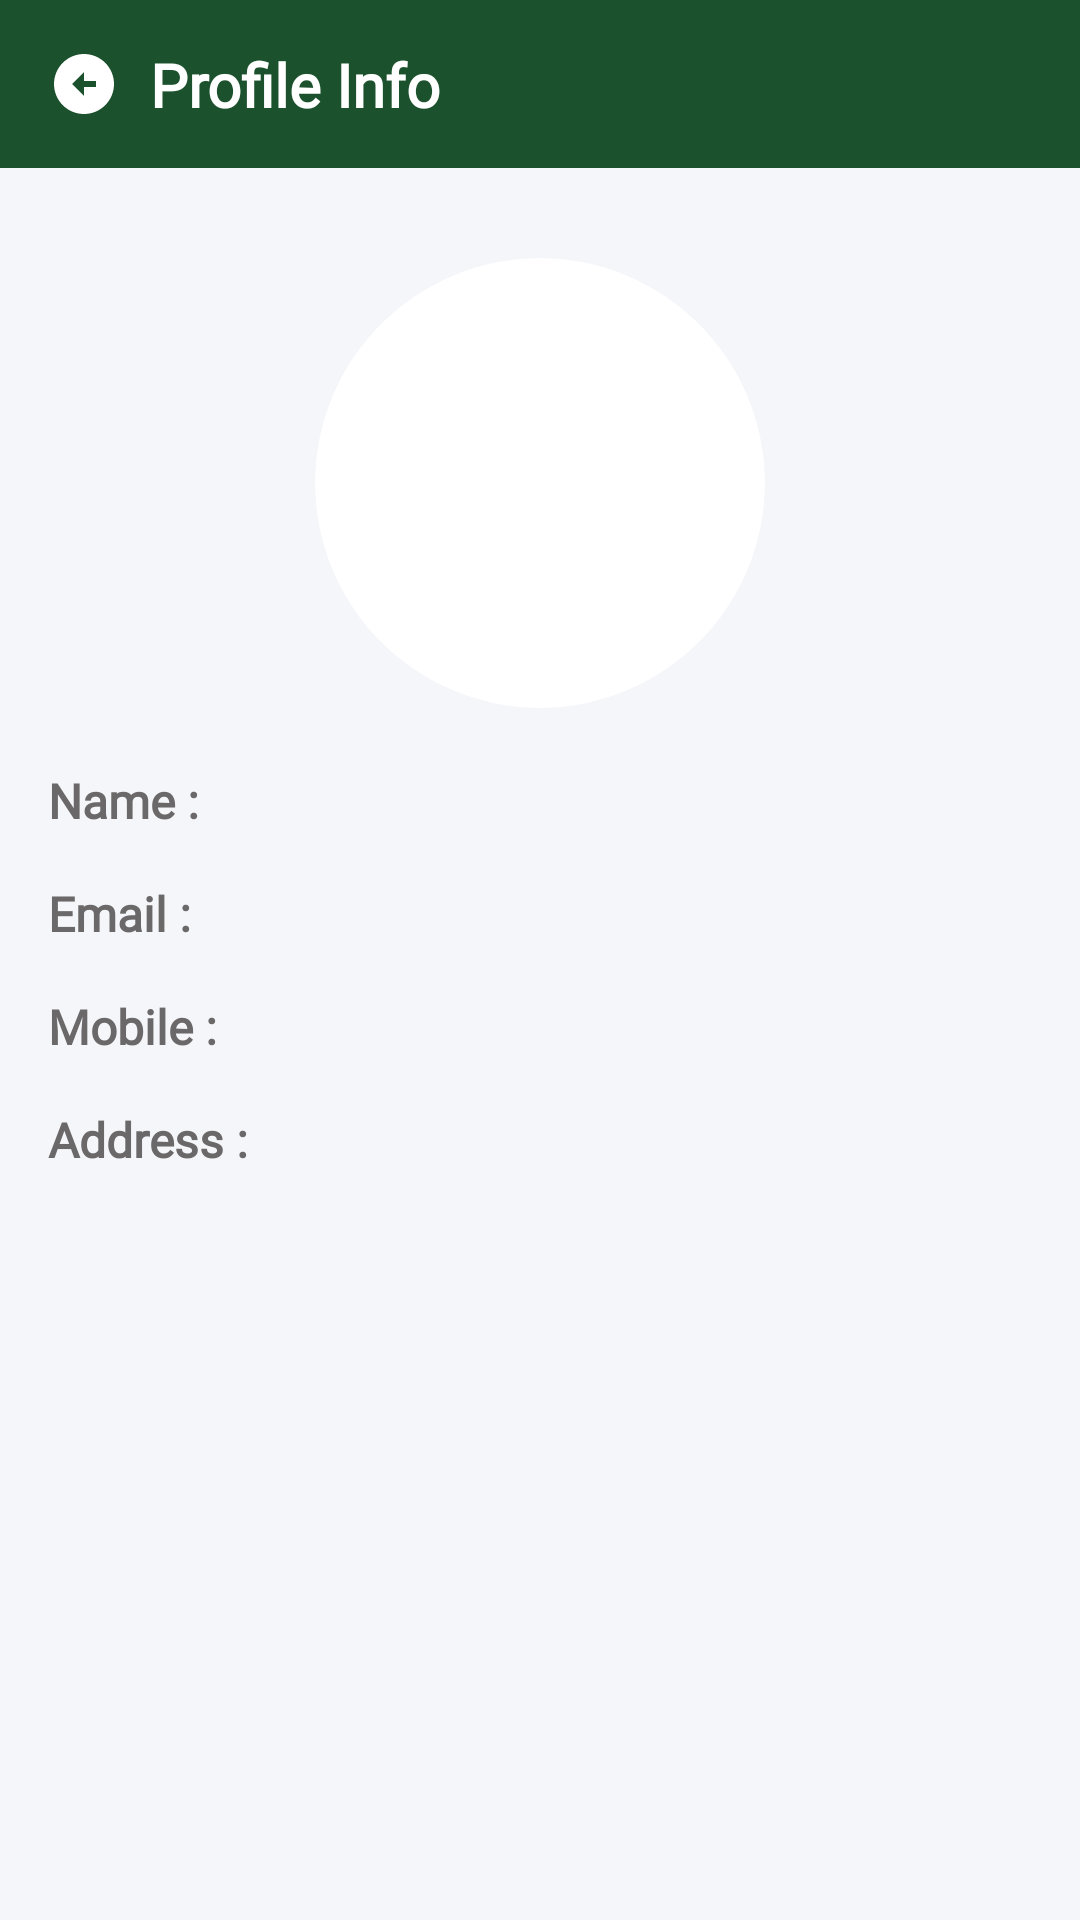

Icons on this 1080px×1920px Android screen, each with the point to tap as point (x, y):
back arrow: point (84, 84)
